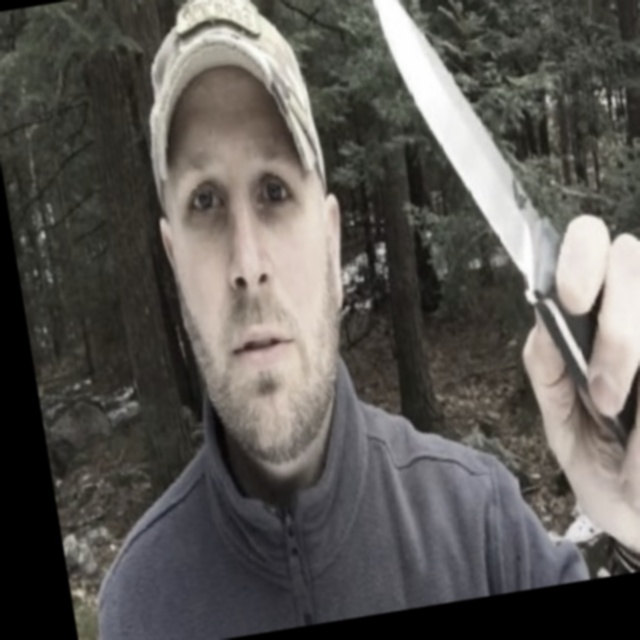Sharp-Object: (367, 0, 640, 545)
